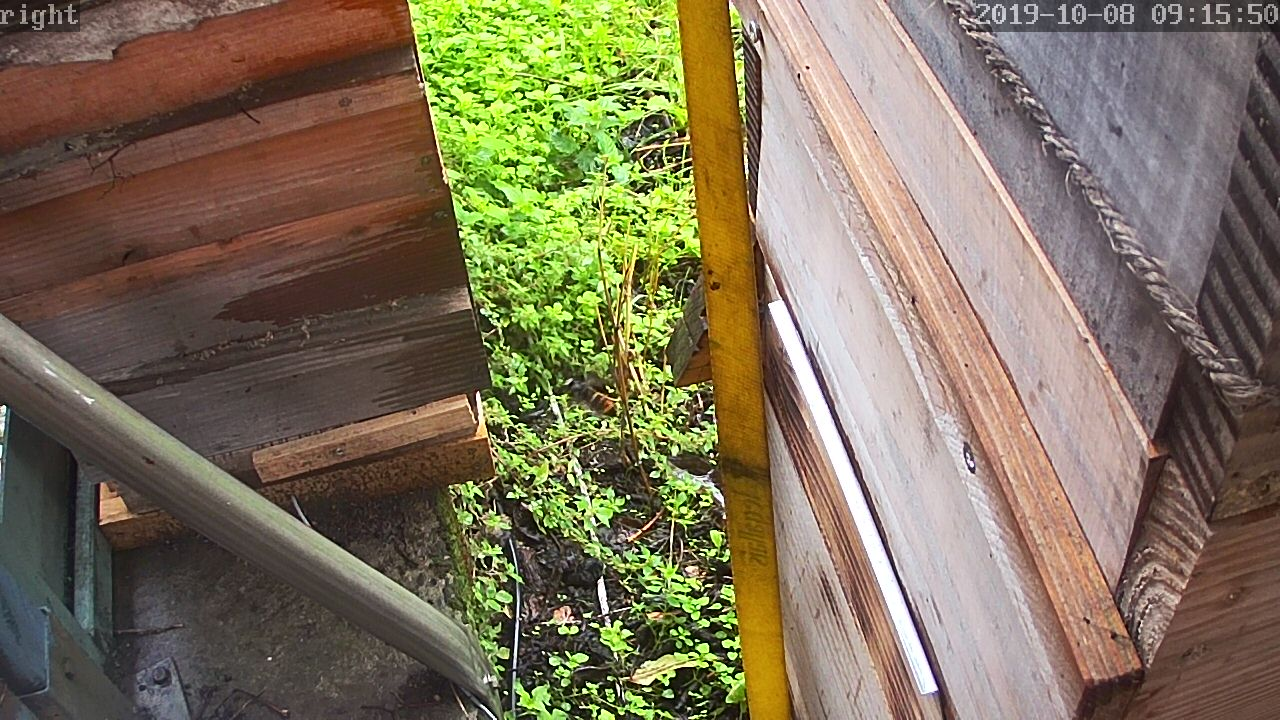hornet: (536, 545, 594, 608), (710, 532, 738, 593), (584, 369, 620, 413)
